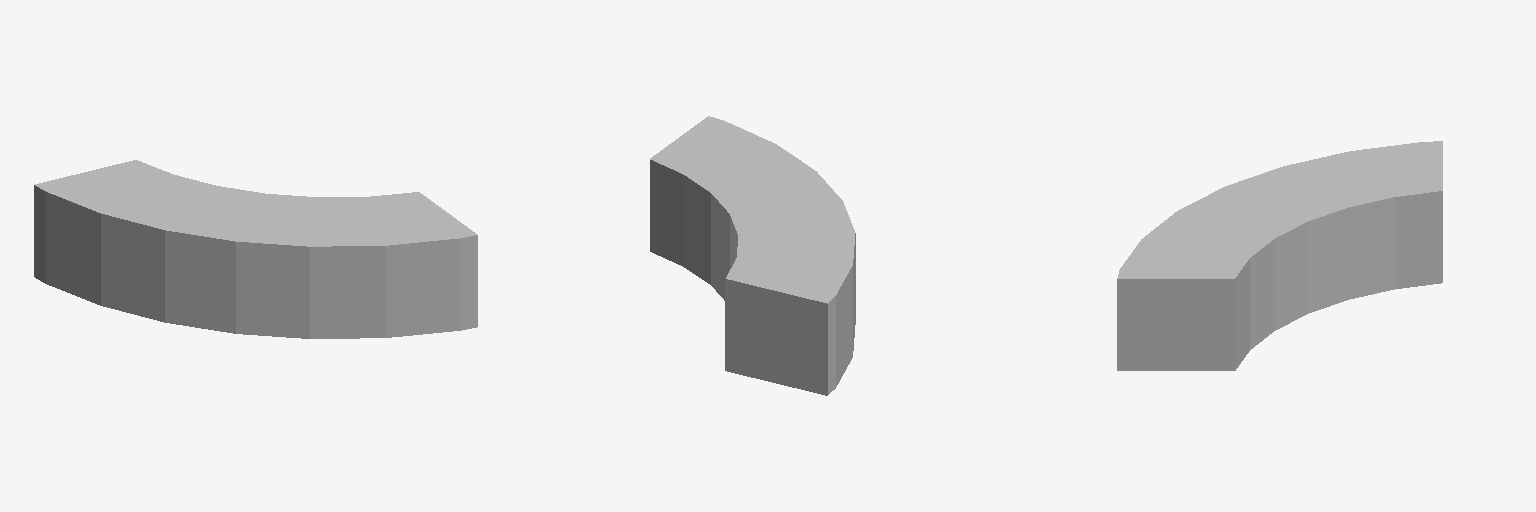
Rendered from gsharp.obj.
The picture shows the model from 3 angles: view 1: azimuth 30°, elevation 25°; view 2: azimuth 150°, elevation 25°; view 3: azimuth 270°, elevation 25°; orthographic projection.
Parts seen in each view (by area): view 1: Cylinder.003_Cylinder.004; view 2: Cylinder.003_Cylinder.004; view 3: Cylinder.003_Cylinder.004.
Part boxes in pixels (left/top/right/bottom): Cylinder.003_Cylinder.004: left=34, top=160, right=477, bottom=338; Cylinder.003_Cylinder.004: left=650, top=116, right=855, bottom=395; Cylinder.003_Cylinder.004: left=1117, top=141, right=1442, bottom=370.
Size of the model in its own units: 0.6026 by 0.1889 by 0.6026.